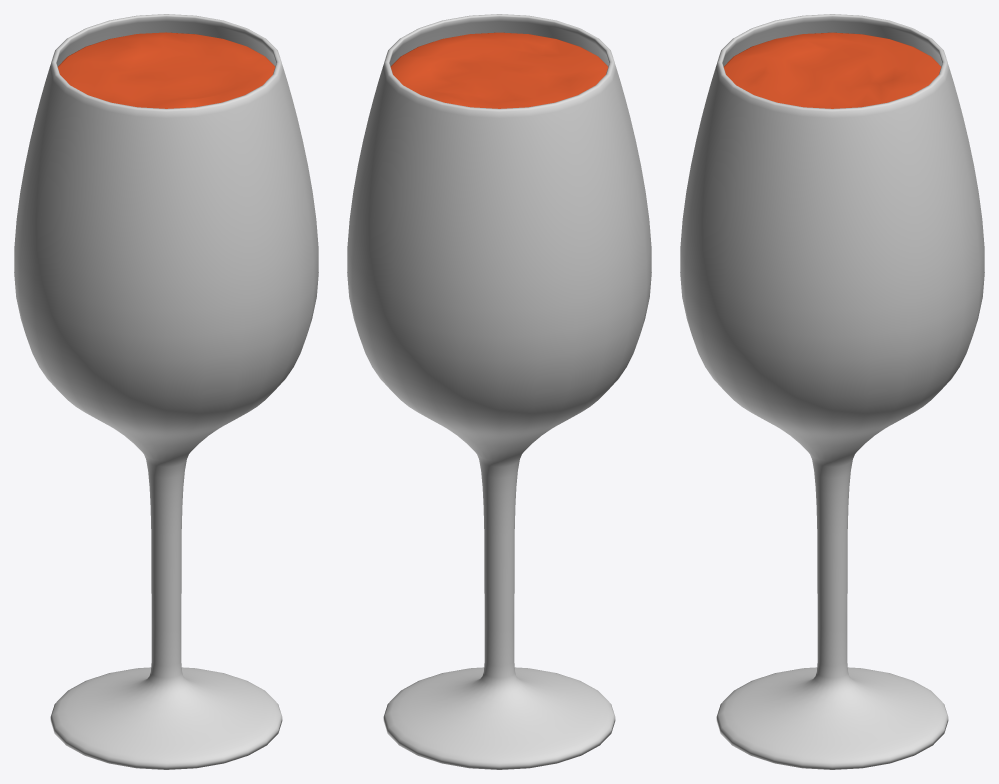
3 views of the same model, side by side, from view 1: azimuth 30°, elevation 25°; view 2: azimuth 150°, elevation 25°; view 3: azimuth 270°, elevation 25° (orthographic).
Visible parts, largest first — view 1: Wine; view 2: Wine; view 3: Wine.
Boxes of the visible parts, <box> form: Wine: <box>14,14,318,769</box>; Wine: <box>347,14,651,769</box>; Wine: <box>680,14,984,769</box>.
Bounding box in the file's own units: 0.0711 × 0.1697 × 0.0711.
